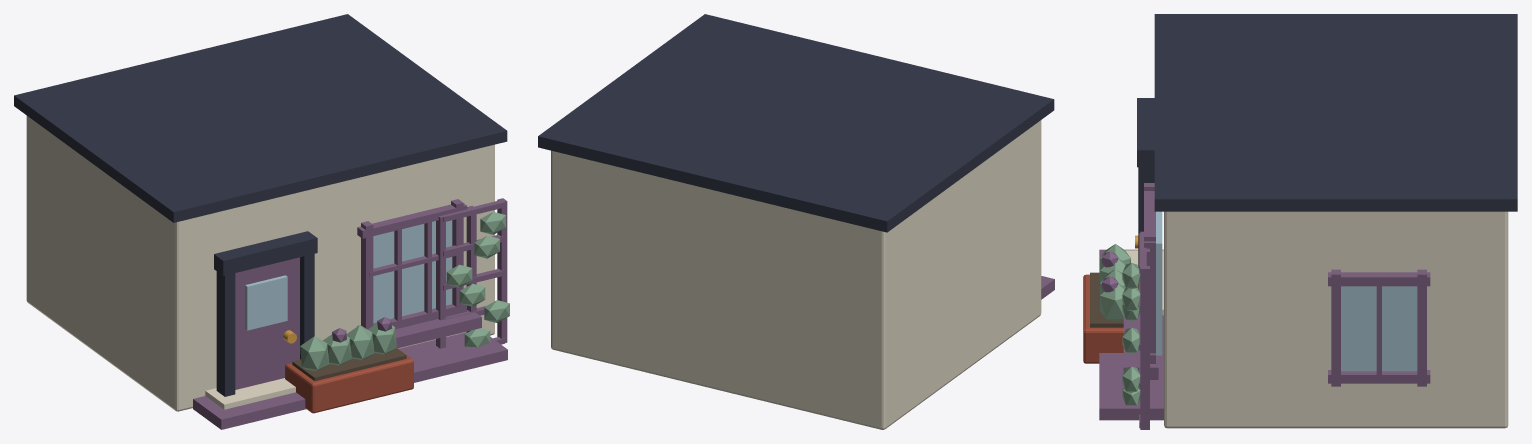
Rendered from floor_gardens_0.glb.
The picture shows the model from 3 angles, left to right: view 1: azimuth 30°, elevation 25°; view 2: azimuth 150°, elevation 25°; view 3: azimuth 270°, elevation 25°; orthographic projection. The views are drawn at different scales.
Visible parts, largest first — view 1: floor_gardens_0 ink, floor_gardens_0 mist, floor_gardens_0 patina, floor_gardens_0 glass, floor_gardens_0 pine, floor_gardens_0 clay, floor_gardens_0 leaf, floor_gardens_0 soil; view 2: floor_gardens_0 mist, floor_gardens_0 ink; view 3: floor_gardens_0 ink, floor_gardens_0 mist, floor_gardens_0 patina, floor_gardens_0 glass, floor_gardens_0 pine, floor_gardens_0 clay, floor_gardens_0 soil, floor_gardens_0 leaf, floor_gardens_0 plum.
Part boxes in pixels (left/top/right/bottom): floor_gardens_0 ink: left=14, top=14, right=507, bottom=396; floor_gardens_0 mist: left=26, top=116, right=494, bottom=411; floor_gardens_0 patina: left=193, top=198, right=507, bottom=429; floor_gardens_0 glass: left=245, top=220, right=452, bottom=330; floor_gardens_0 pine: left=323, top=212, right=509, bottom=365; floor_gardens_0 clay: left=285, top=348, right=413, bottom=413; floor_gardens_0 leaf: left=300, top=325, right=374, bottom=370; floor_gardens_0 soil: left=292, top=348, right=406, bottom=380; floor_gardens_0 mist: left=551, top=120, right=1041, bottom=429; floor_gardens_0 ink: left=538, top=14, right=1054, bottom=232; floor_gardens_0 ink: left=1137, top=14, right=1517, bottom=268; floor_gardens_0 mist: left=1125, top=211, right=1508, bottom=428; floor_gardens_0 patina: left=1099, top=183, right=1430, bottom=429; floor_gardens_0 glass: left=1156, top=211, right=1417, bottom=371; floor_gardens_0 pine: left=1100, top=258, right=1140, bottom=405; floor_gardens_0 clay: left=1083, top=274, right=1123, bottom=363; floor_gardens_0 soil: left=1090, top=272, right=1139, bottom=327; floor_gardens_0 leaf: left=1100, top=244, right=1130, bottom=294; floor_gardens_0 plum: left=1102, top=251, right=1118, bottom=292.
Size of the model in its own units: 0.8345 by 0.48 by 0.8075.
